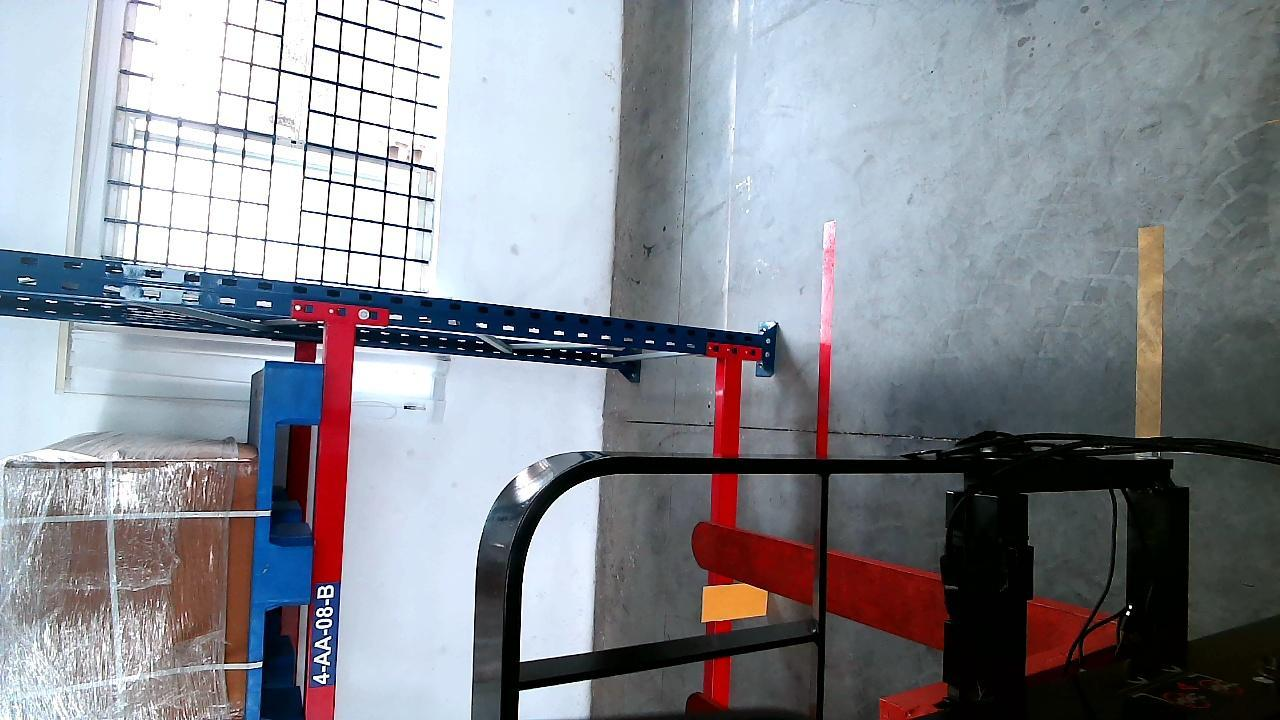red_line: (816, 222, 837, 460)
yellow_line: (1137, 221, 1162, 438)
